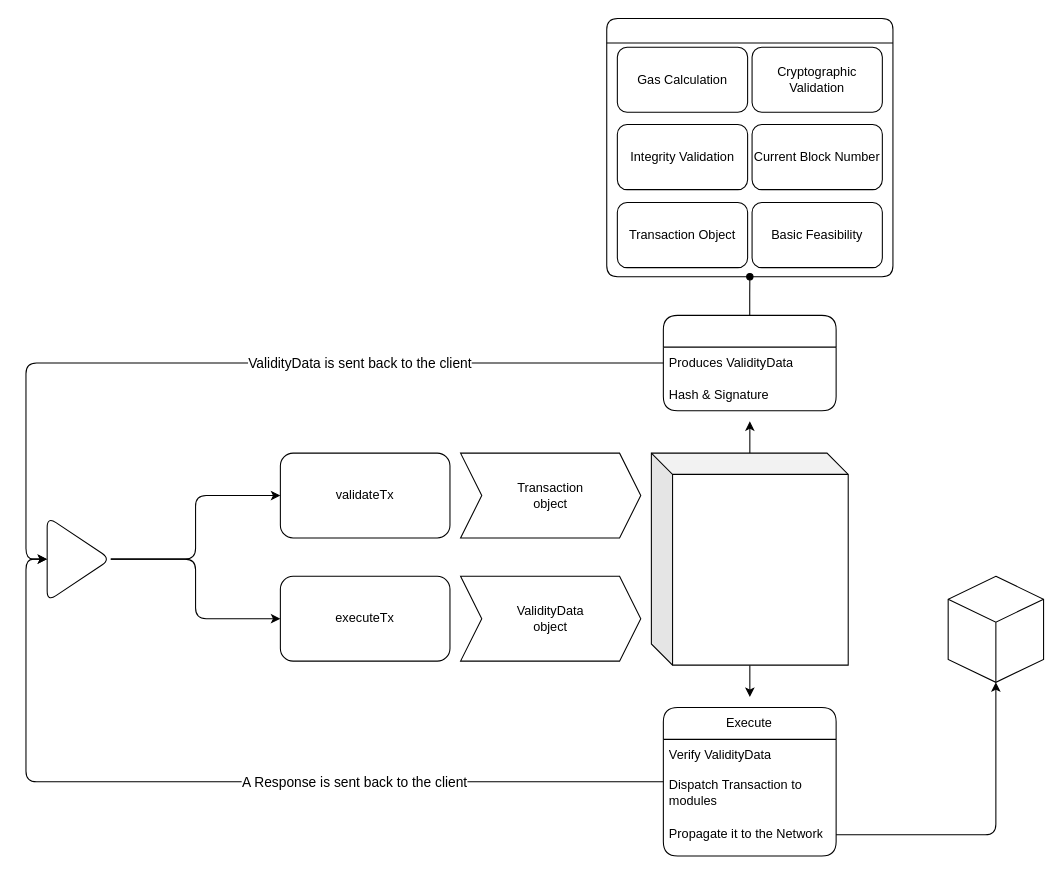
Some shapes in this 1062 by 874 pixel diagram are drawn without their labels. Here are the shapes that lost their labels. From the top down, the box of each, then its label:
(606, 17, 893, 277): ValidityData
(662, 314, 836, 411): Validate
(46, 516, 111, 602): Client
(650, 452, 848, 665): DEMOS RPC
(947, 575, 1044, 682): DEMOS Network
